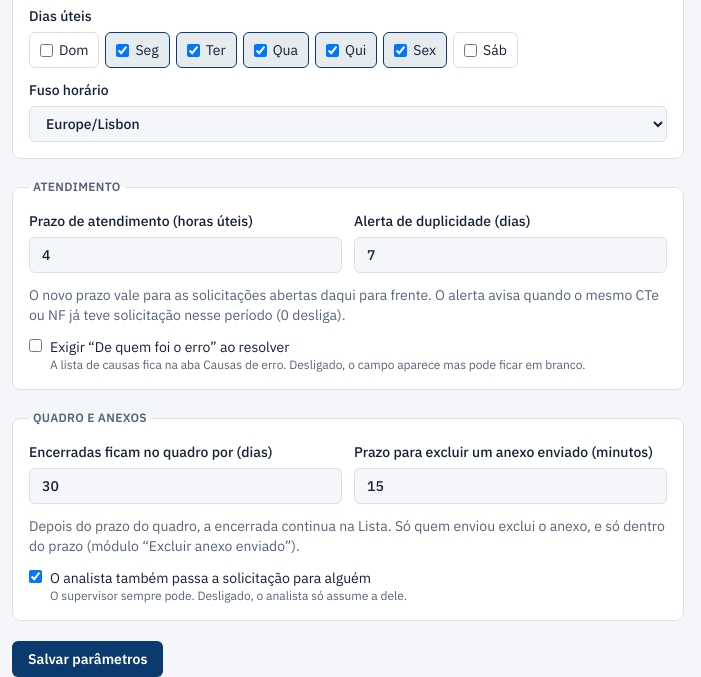
Test: Parâmetros da empresa › mostra o erro de regra de negócio
(page scrolled)
Check: the dropdown labelled "Fuso horário" shows "Europe/Lisbon", box [29,106,667,142]
Click the button "Salvar parâmetros".
click(88, 659)  # box [12,641,163,676]
(page scrolled)
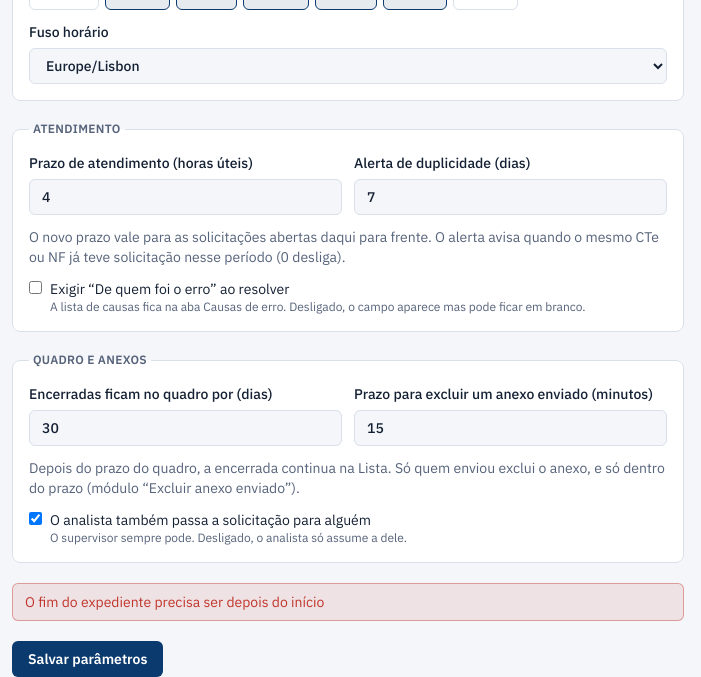
Check: the text "O fim do expediente precisa ser depois do início" is shown, box [12,583,684,621]
